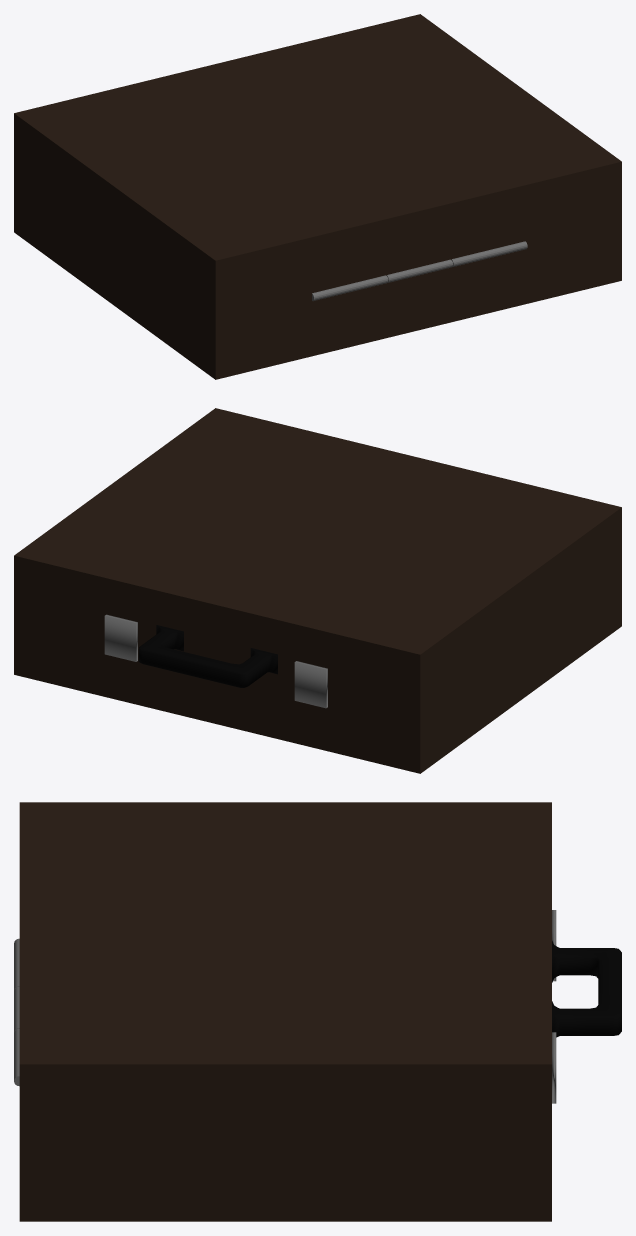
Rendered from SM_Briefcase_Low.fbx.
The picture shows the model from 3 angles, top to bottom: view 1: azimuth 30°, elevation 25°; view 2: azimuth 150°, elevation 25°; view 3: azimuth 270°, elevation 25°; orthographic projection. The views are drawn at different scales.
Visible parts, largest first — view 1: Cylinder.001; view 2: Cylinder.001; view 3: Cylinder.001.
Part boxes in pixels (box(x1,y1,x2,y2)): Cylinder.001: box(14, 14, 621, 379); Cylinder.001: box(14, 408, 621, 773); Cylinder.001: box(14, 802, 621, 1221).
Size of the model in its own units: 35.5 by 9.94 by 34.84.
